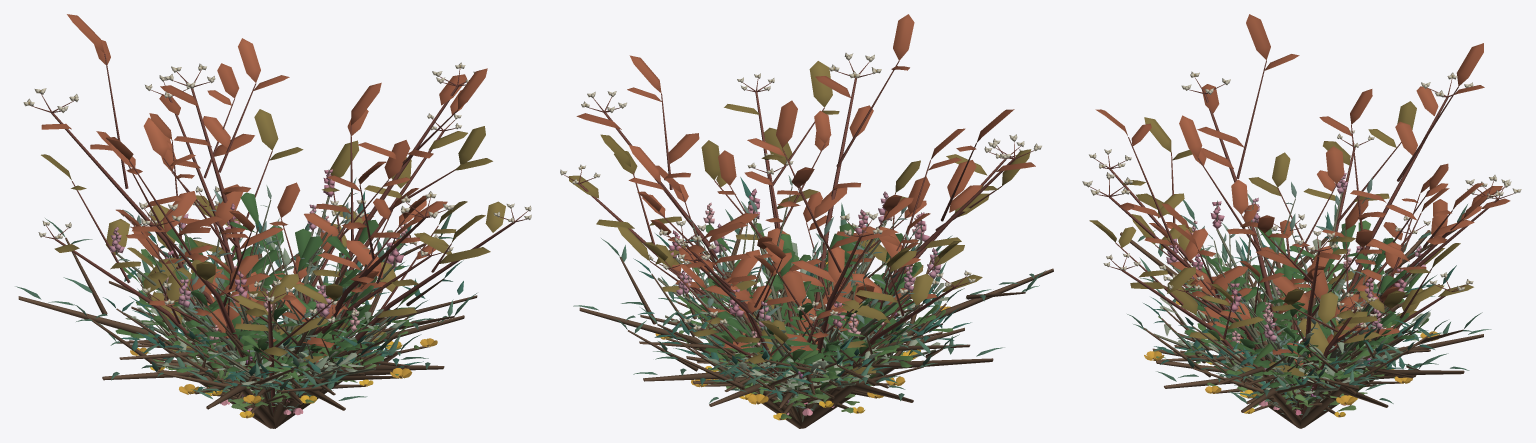
File: shrubs.glb
The picture shows the model from 3 angles, left to right: view 1: azimuth 30°, elevation 25°; view 2: azimuth 150°, elevation 25°; view 3: azimuth 270°, elevation 25°; orthographic projection. The views are drawn at different scales.
Parts seen in each view (by area): view 1: red_dogwood_2_detail, red_dogwood_1_detail, red_dogwood_0_detail, juniper_scrub_2_detail, wild_boxwood_1_detail, juniper_scrub_1_detail, wild_boxwood_2_detail, sweet_myricaria_1_detail, juniper_scrub_0_detail, sweet_myricaria_2_detail, wild_boxwood_0_detail, scrub_cinquefoil_1_detail (+6 smaller); view 2: red_dogwood_2_detail, red_dogwood_1_detail, red_dogwood_0_detail, juniper_scrub_2_detail, wild_boxwood_1_detail, juniper_scrub_1_detail, wild_boxwood_2_detail, sweet_myricaria_1_detail, sweet_myricaria_2_detail, wild_boxwood_0_detail, juniper_scrub_0_detail, silver_sagebrush_2_detail (+6 smaller); view 3: red_dogwood_2_detail, red_dogwood_1_detail, red_dogwood_0_detail, juniper_scrub_2_detail, wild_boxwood_1_detail, juniper_scrub_1_detail, sweet_myricaria_1_detail, wild_boxwood_2_detail, sweet_myricaria_2_detail, wild_boxwood_0_detail, juniper_scrub_0_detail, scrub_cinquefoil_1_detail (+5 smaller).
Boxes of the visible parts, x1,y1,x2,y2 form: red_dogwood_2_detail: (23,14,487,372); red_dogwood_1_detail: (38,109,531,413); red_dogwood_0_detail: (116,63,453,371); juniper_scrub_2_detail: (15,209,476,428); wild_boxwood_1_detail: (147,192,378,386); juniper_scrub_1_detail: (103,190,477,400); wild_boxwood_2_detail: (115,240,418,388); sweet_myricaria_1_detail: (109,189,397,363); juniper_scrub_0_detail: (129,251,423,428); sweet_myricaria_2_detail: (164,169,404,377); wild_boxwood_0_detail: (162,225,371,402); scrub_cinquefoil_1_detail: (130,252,437,418); red_dogwood_2_detail: (576,14,1041,374); red_dogwood_1_detail: (560,61,1031,387); red_dogwood_0_detail: (647,110,939,385); juniper_scrub_2_detail: (573,203,1053,428); wild_boxwood_1_detail: (700,223,918,380); juniper_scrub_1_detail: (633,177,970,419); wild_boxwood_2_detail: (667,223,953,407); sweet_myricaria_1_detail: (676,191,941,383); sweet_myricaria_2_detail: (668,175,929,387); wild_boxwood_0_detail: (698,242,904,396); juniper_scrub_0_detail: (661,223,971,423); silver_sagebrush_2_detail: (665,247,948,415); red_dogwood_2_detail: (1082,14,1511,415); red_dogwood_1_detail: (1089,101,1473,418); red_dogwood_0_detail: (1144,146,1521,394); juniper_scrub_2_detail: (1120,200,1491,428); wild_boxwood_1_detail: (1185,223,1406,394); juniper_scrub_1_detail: (1151,212,1456,399); sweet_myricaria_1_detail: (1166,170,1425,392); wild_boxwood_2_detail: (1170,220,1422,405); sweet_myricaria_2_detail: (1192,193,1406,368); wild_boxwood_0_detail: (1185,268,1414,409); juniper_scrub_0_detail: (1143,233,1428,405); scrub_cinquefoil_1_detail: (1144,301,1440,419).
Size of the model in its own units: 2.61 by 2.15 by 2.54.
